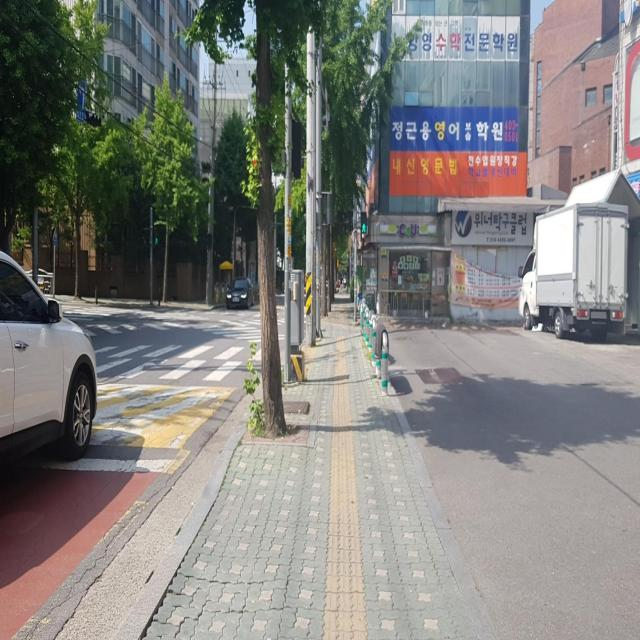초록불: (360, 211, 368, 235), (154, 235, 159, 261)
횡단보도: (93, 338, 264, 382)
